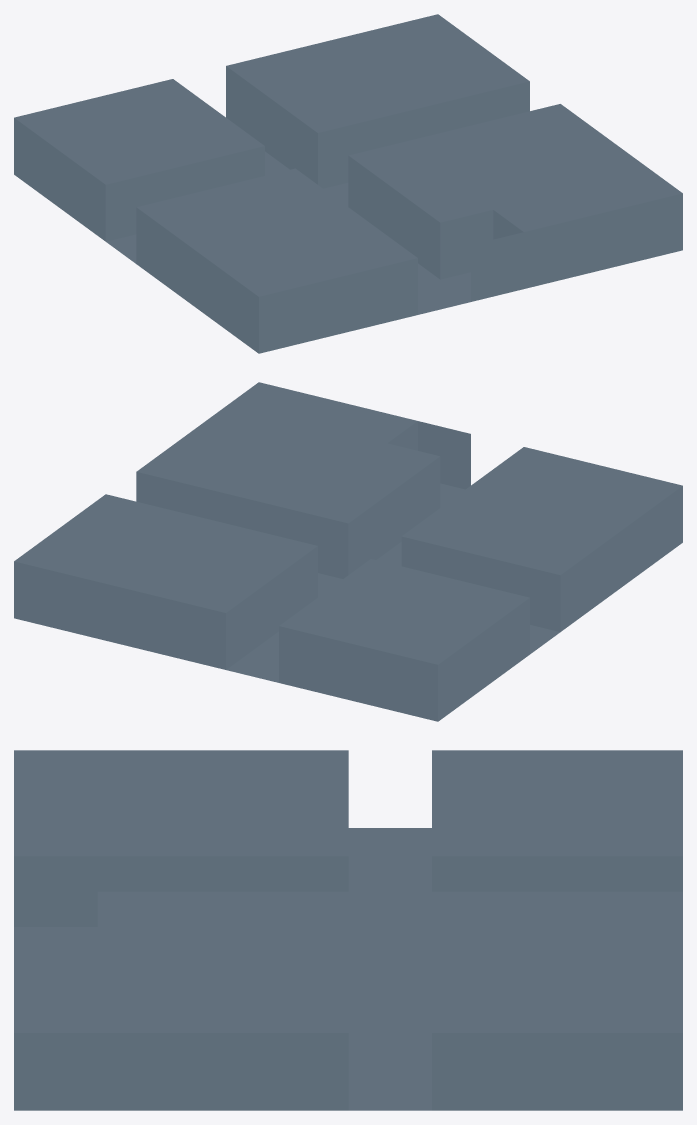
Rendered from testFloor.glb.
3 views of the same model, one above another, from view 1: azimuth 30°, elevation 25°; view 2: azimuth 150°, elevation 25°; view 3: azimuth 270°, elevation 25° (orthographic). The views are drawn at different scales.
Visible parts, largest first — view 1: Cube.003; view 2: Cube.003; view 3: Cube.003.
Part boxes in pixels (x1=…): Cube.003: x1=14, y1=14, x2=682, y2=353; Cube.003: x1=14, y1=382, x2=682, y2=721; Cube.003: x1=14, y1=750, x2=682, y2=1110.
Bounding box in the file's own units: 22.6 × 2.9 × 22.6.
